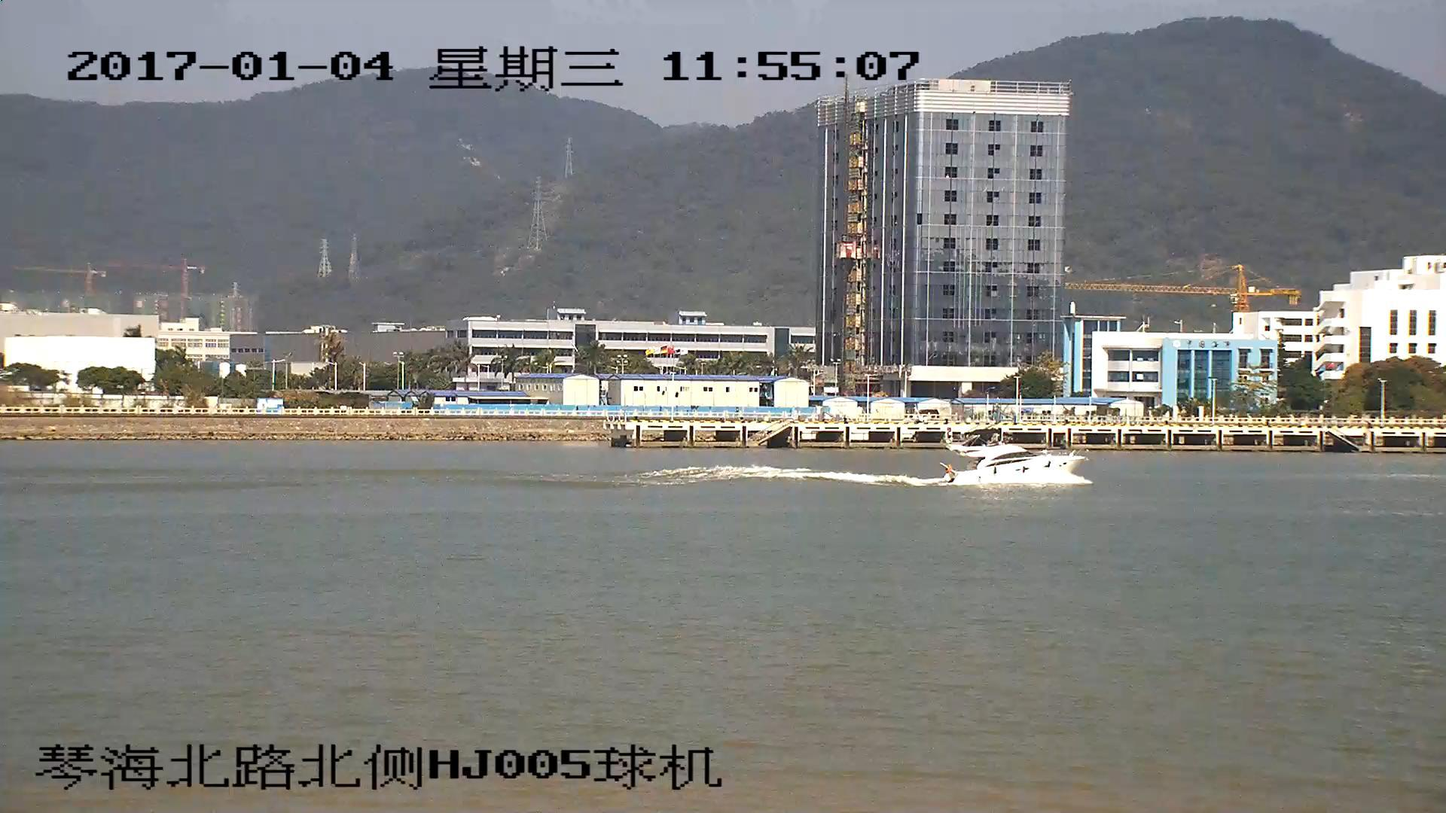passenger ship: (942, 430, 1087, 483)
